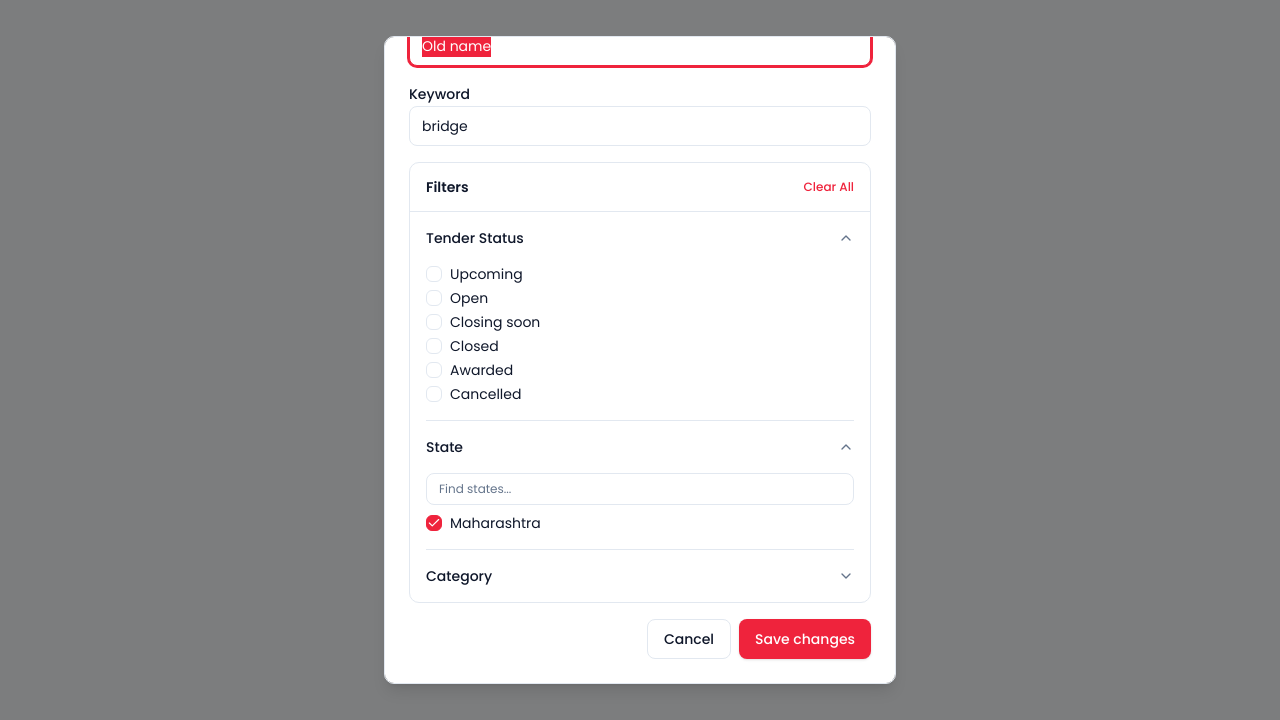
Test: EditSavedSearchDialog › surfaces API errors
(page scrolled)
Step 1. Click the button "Save changes" → (805, 639), box [739,619,871,659]
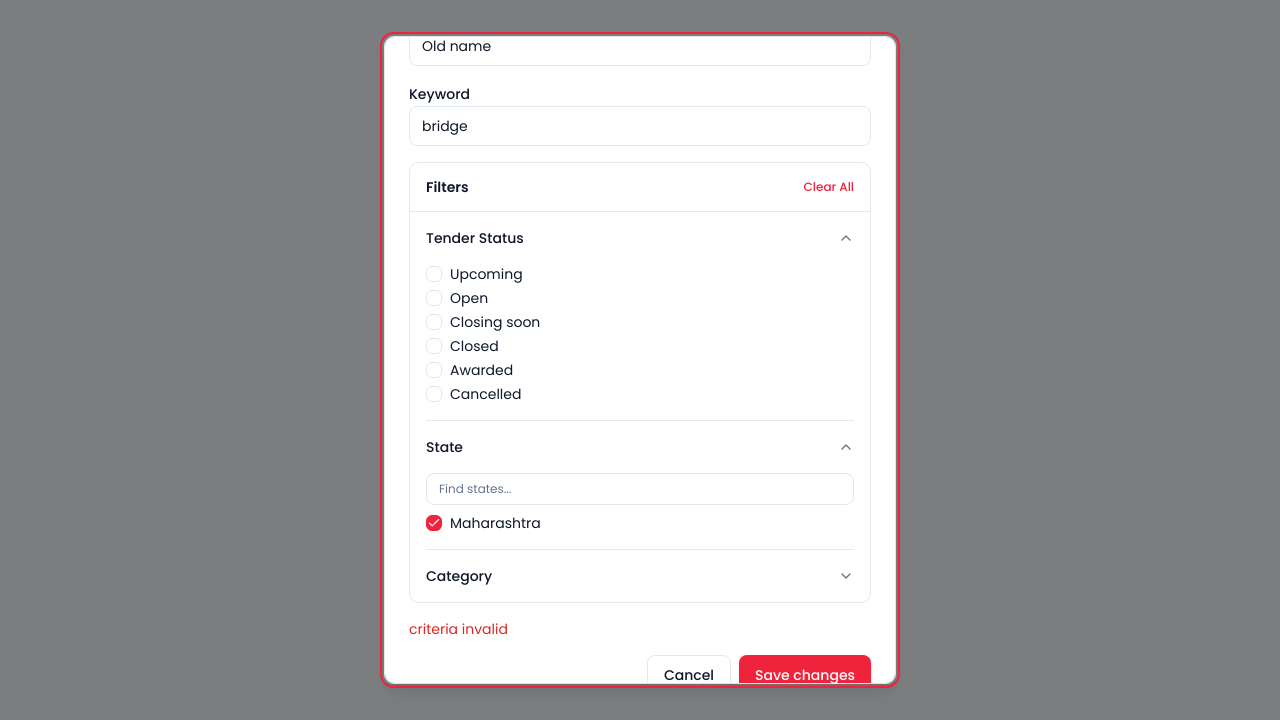
Result: the text "criteria invalid" is shown at [409,619,508,639]
